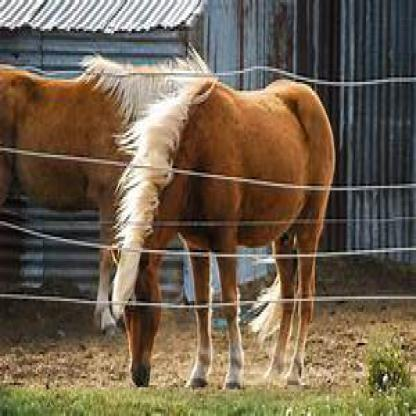horse: (104, 64, 340, 392)
